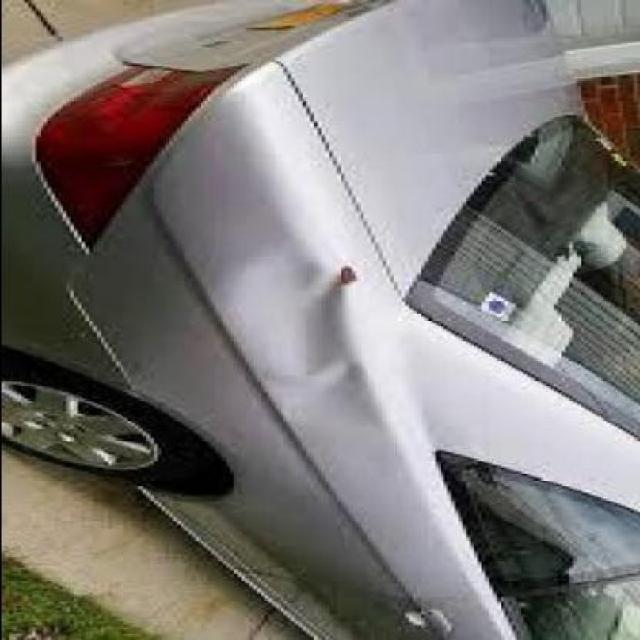damage: (211, 246, 401, 439)
